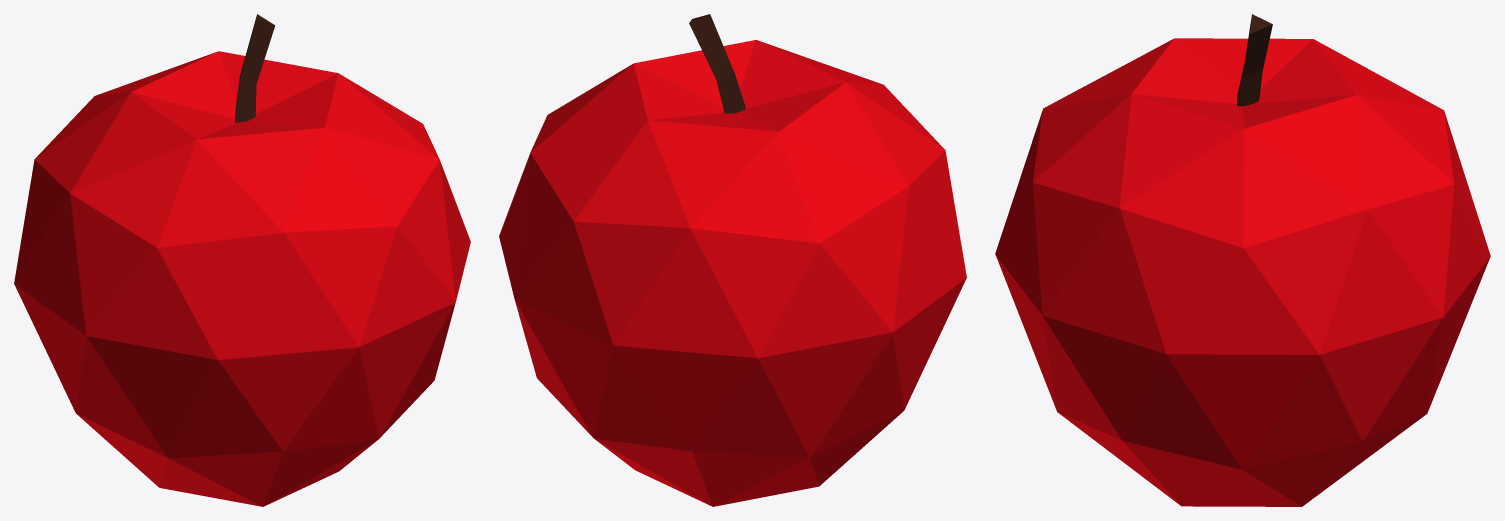
Rendered from apple.fbx.
3 renders of one model, left to right at view 1: azimuth 30°, elevation 25°; view 2: azimuth 150°, elevation 25°; view 3: azimuth 270°, elevation 25°, orthographic. The views are drawn at different scales.
Parts seen in each view (by area): view 1: apple; view 2: apple; view 3: apple.
Part boxes in pixels (x1=…): apple: x1=14, y1=14, x2=470, y2=506; apple: x1=499, y1=14, x2=966, y2=506; apple: x1=995, y1=14, x2=1490, y2=506.
Bounding box in the file's own units: 162 × 181 × 170.
